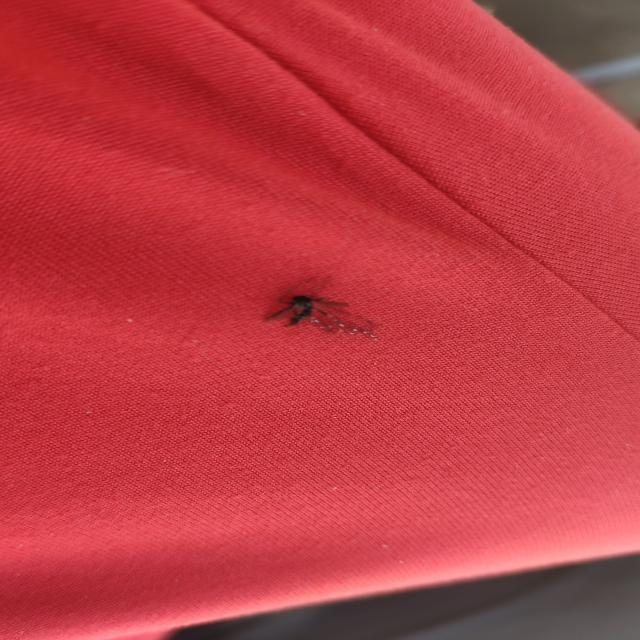albopictus: (258, 270, 381, 339)
